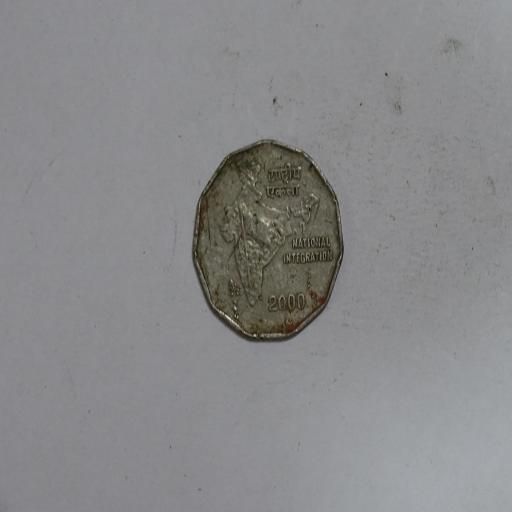rupee2: (191, 138, 344, 341)
